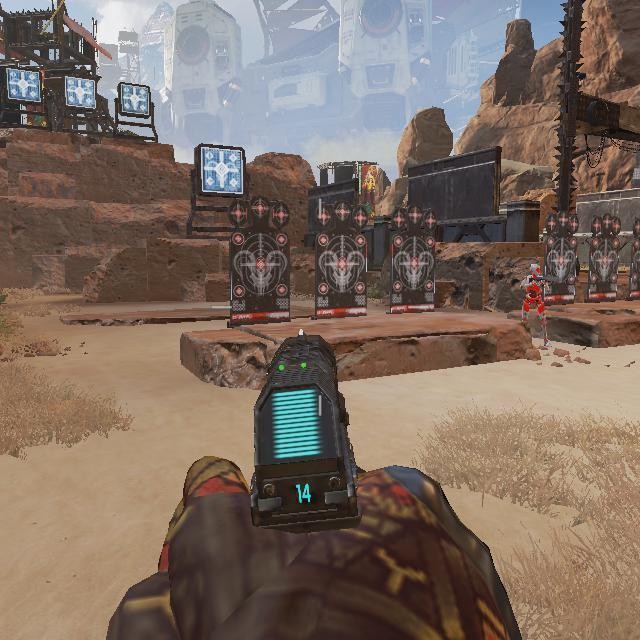avatar: (519, 263, 553, 349)
